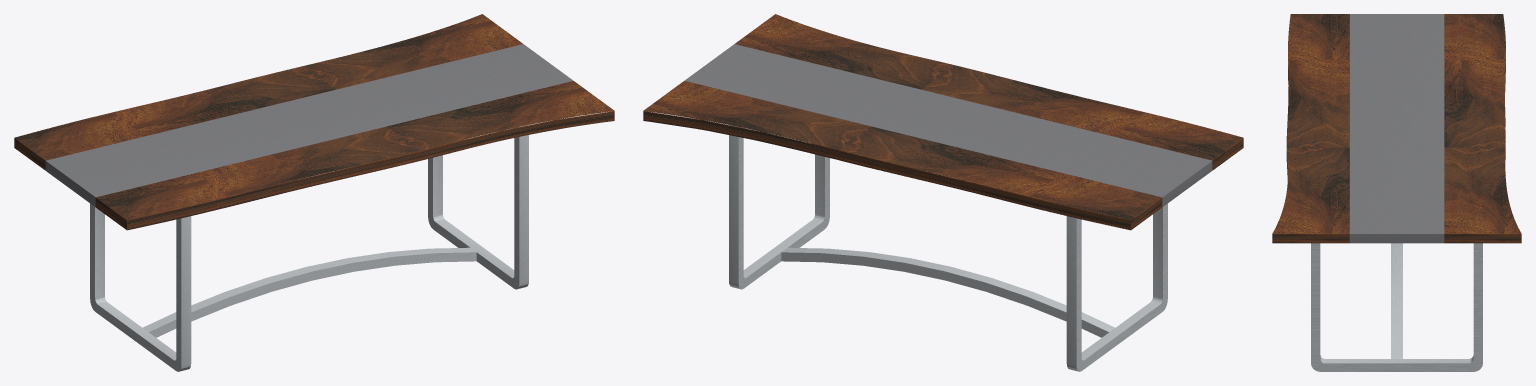
Rendered from levana.gltf.
3 renders of one model, left to right at view 1: azimuth 30°, elevation 25°; view 2: azimuth 150°, elevation 25°; view 3: azimuth 270°, elevation 25°, orthographic. The views are drawn at different scales.
Parts seen in each view (by area): view 1: mesh_2; view 2: mesh_2; view 3: mesh_2.
Part boxes in pixels (x1,y1,x2,y2): mesh_2: (14,14,614,371); mesh_2: (643,14,1243,371); mesh_2: (1272,14,1521,371).
Size of the model in its own units: 220 by 78.5 by 106.
Materials: 4 (4 with a texture image).
